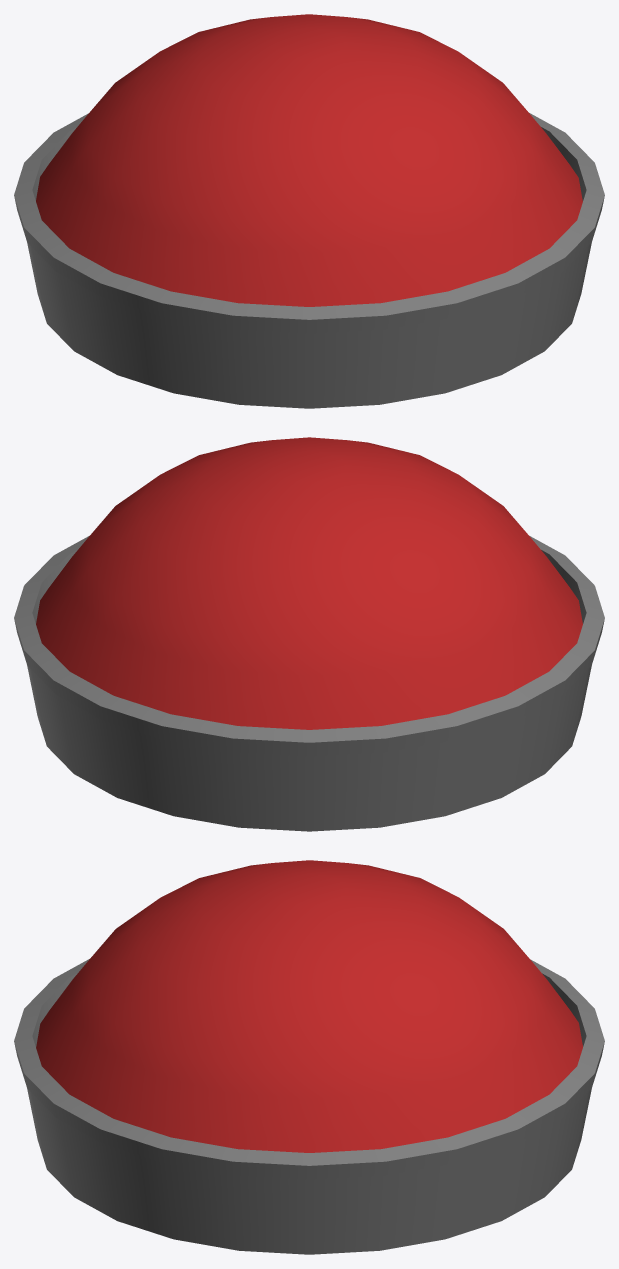
Rendered from SM_spices_market_01.fbx.
3 views of the same model, one above another, from view 1: azimuth 30°, elevation 25°; view 2: azimuth 150°, elevation 25°; view 3: azimuth 270°, elevation 25° (orthographic).
Parts seen in each view (by area): view 1: Object32627; view 2: Object32627; view 3: Object32627.
Boxes of the visible parts, x1,y1,x2,y2 form: Object32627: (14,14,604,408); Object32627: (14,437,604,831); Object32627: (14,860,604,1254).
Size of the model in its own units: 36.24 by 16.9 by 36.24.
